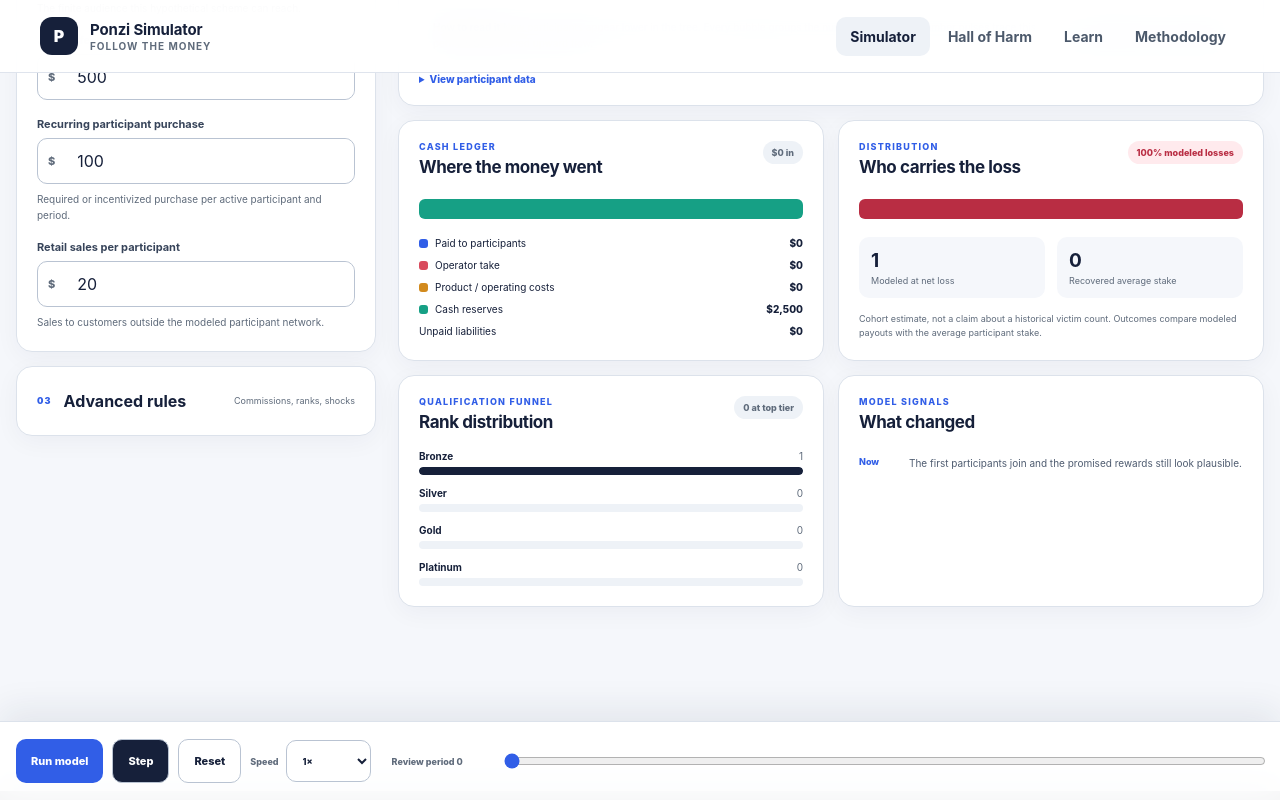
simulator interactions › opens advanced recruitment rules and edits the collections
(page scrolled)
What coordinates should you click on to do the following:
click the text "Advanced rules"
I would click on:
 (125, 401)
Its box is top-left (64, 391), bottom-right (186, 411).
(page scrolled)
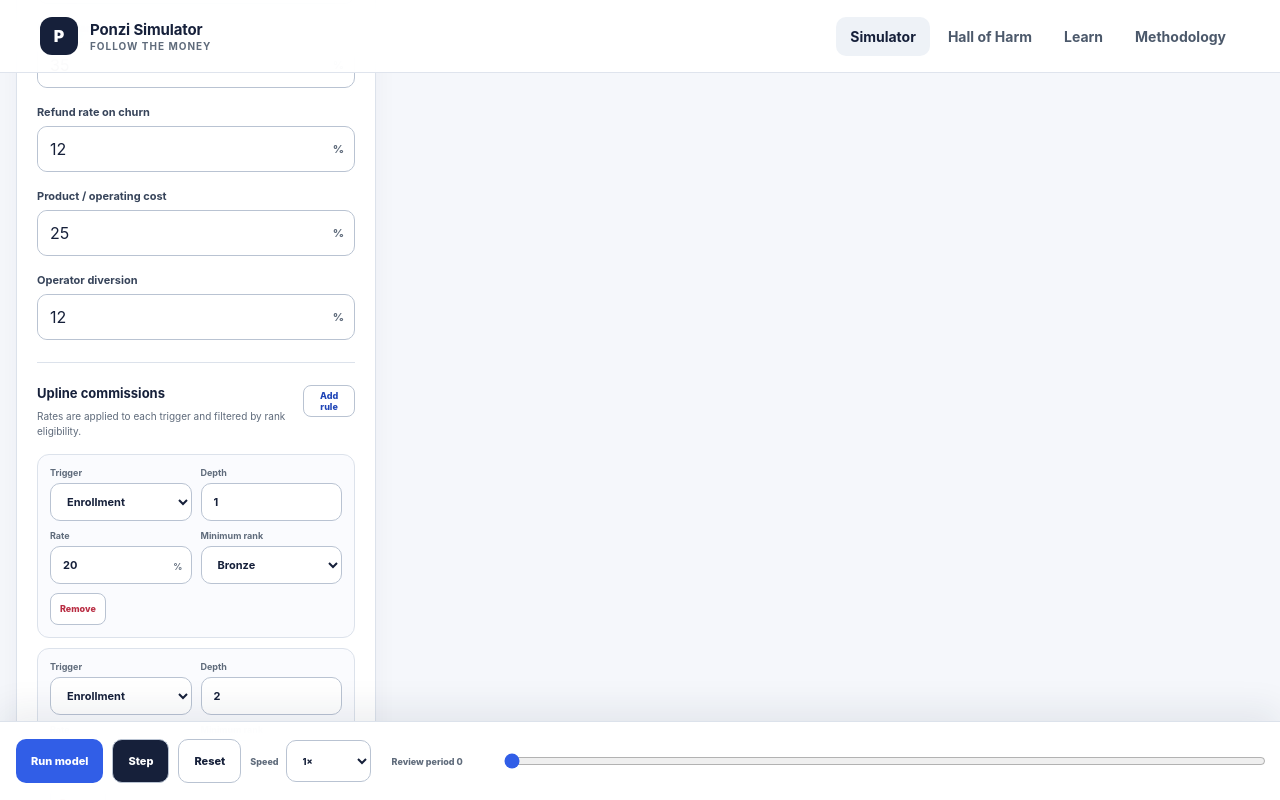
What coordinates should you click on to do the following:
click the button "Add rule"
I would click on:
 (329, 401)
Its box is top-left (303, 385), bottom-right (355, 417).
(page scrolled)
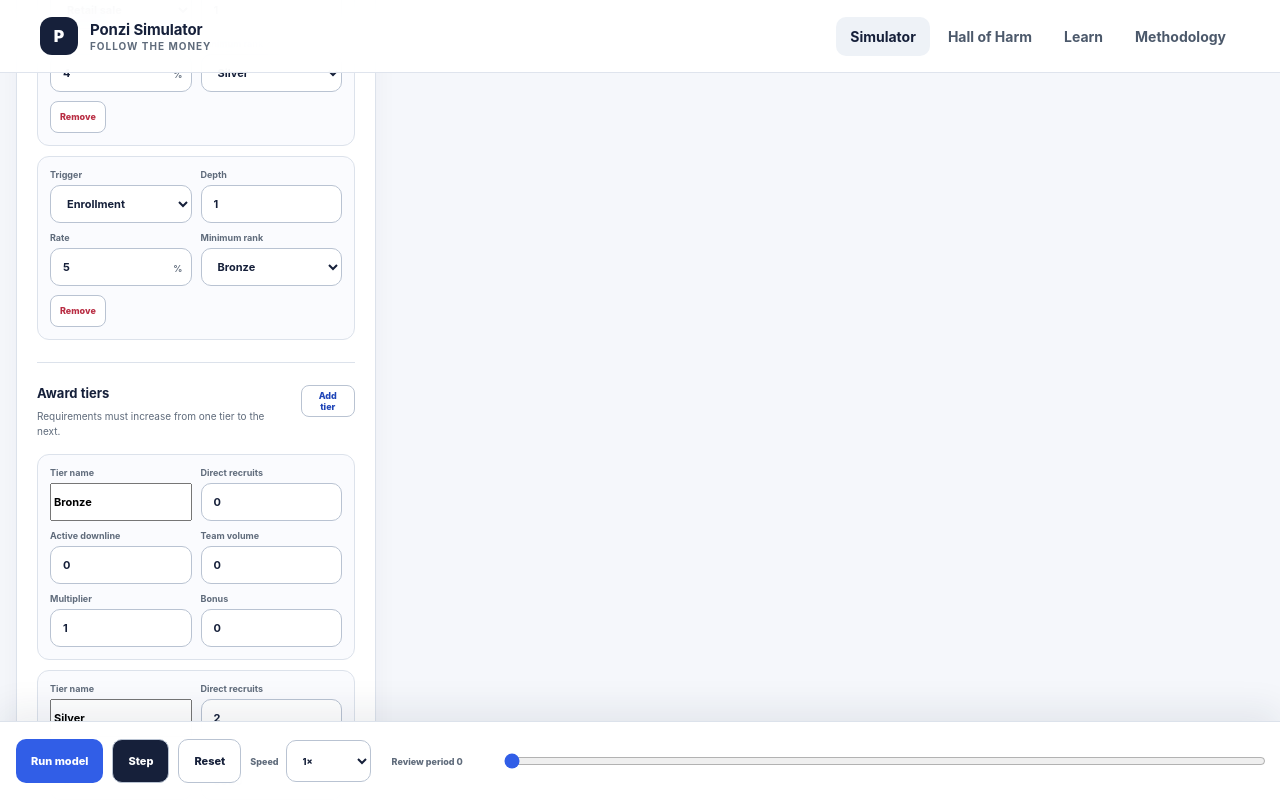
Result: the number of buttons "Remove" is 5
What coordinates should you click on to do the following:
click the button "Add tier"
I would click on:
 (328, 401)
Its box is top-left (301, 385), bottom-right (355, 417).
(page scrolled)
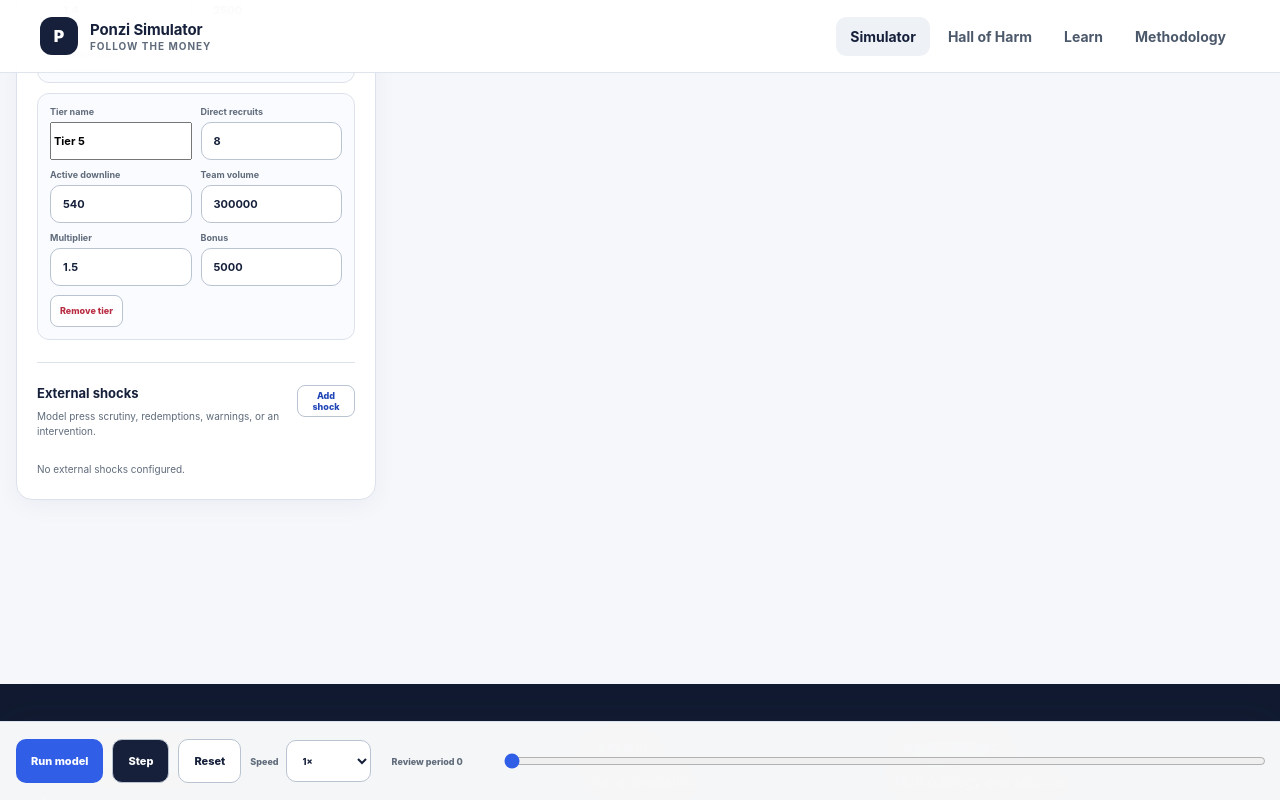
Result: the field showing "Tier 5" is shown at top-left (50, 122), bottom-right (192, 160)
What coordinates should you click on to do the following:
click the button "Add shock"
I would click on:
 (326, 401)
Its box is top-left (297, 385), bottom-right (355, 417).
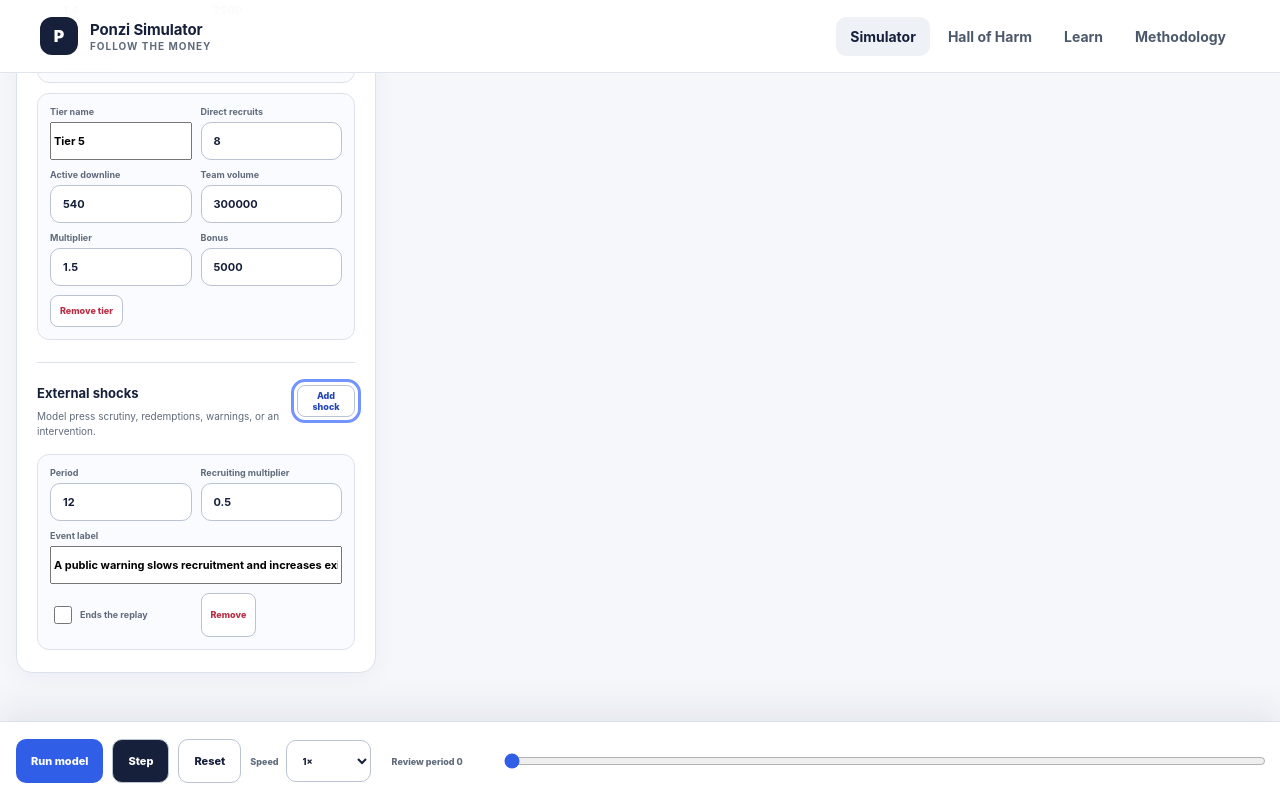
Result: the field showing "public warning slows recruitment" is shown at top-left (50, 546), bottom-right (342, 584)
